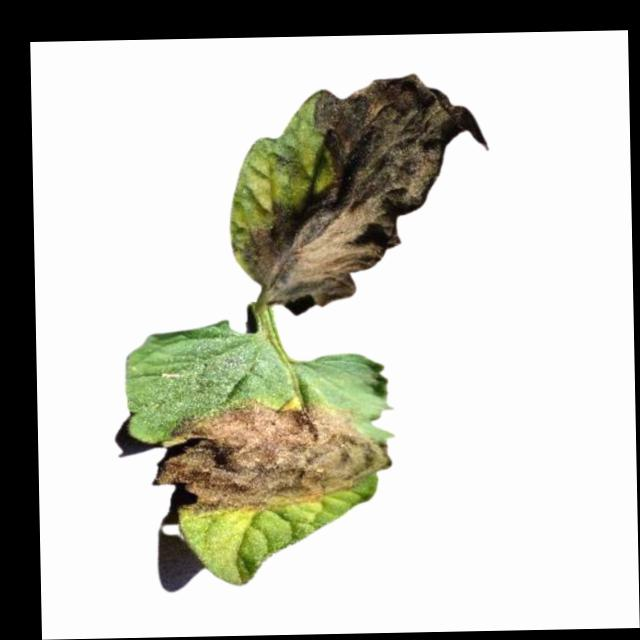Late_blight: (238, 75, 492, 316), (150, 391, 392, 517)
